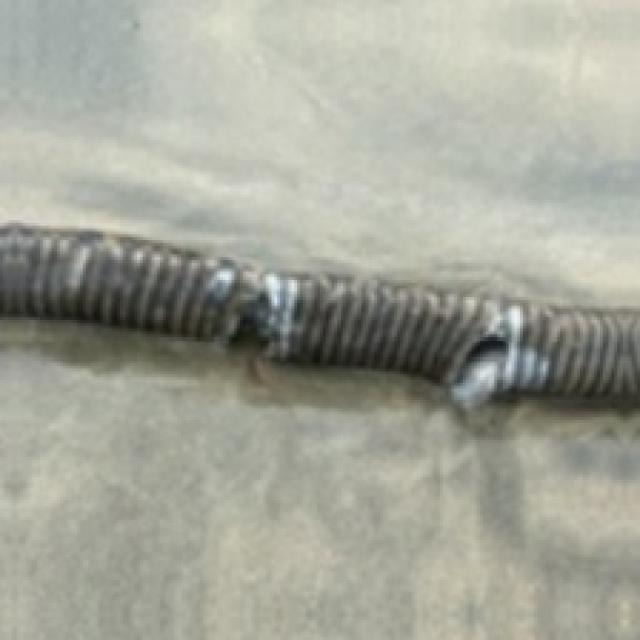king cobra: (0, 223, 637, 406)
